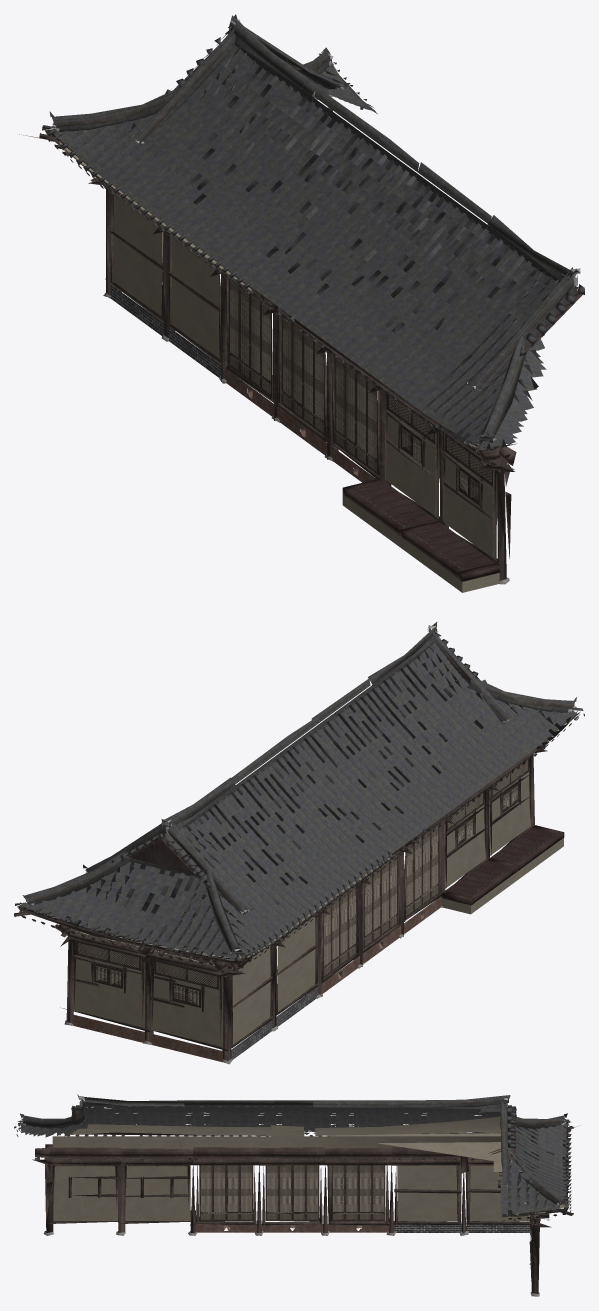
The model's file is TruongHocLow5.fbx.
The picture shows the model from 3 angles, top to bottom: view 1: azimuth 30°, elevation 25°; view 2: azimuth 150°, elevation 25°; view 3: azimuth 270°, elevation 25°; orthographic projection. The views are drawn at different scales.
Visible parts, largest first — view 1: Folk_Education_Hall; view 2: Folk_Education_Hall; view 3: Folk_Education_Hall.
Part boxes in pixels (bbox=[...]): Folk_Education_Hall: bbox=[19, 14, 584, 592]; Folk_Education_Hall: bbox=[14, 622, 584, 1064]; Folk_Education_Hall: bbox=[14, 1094, 579, 1296].
Size of the model in its own units: 1040 by 892 by 2711.
